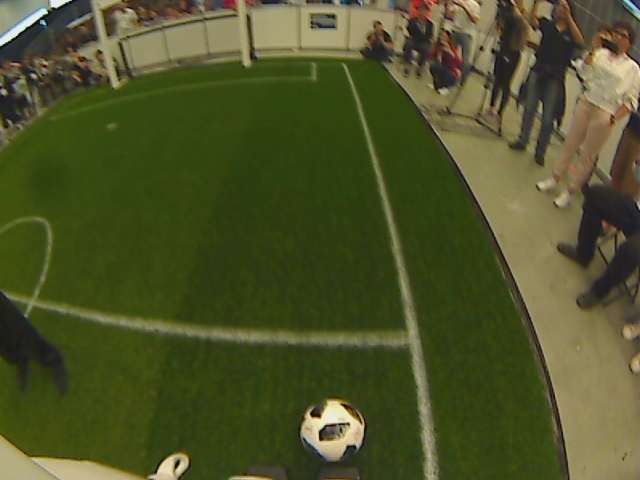ball: (296, 395, 366, 464)
